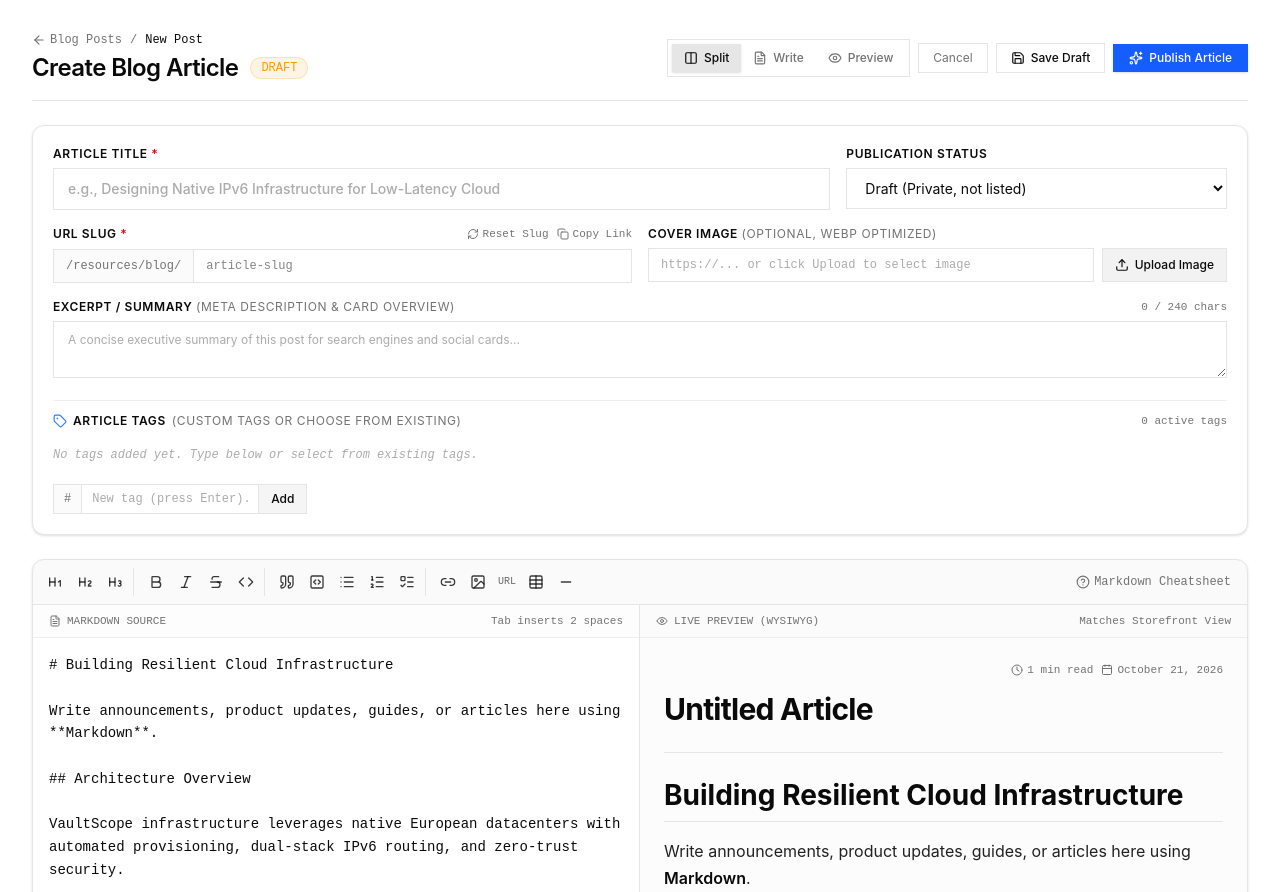
Test: BlogEdit - Markdown Editor with Live Preview › allows toggling view modes between Split, Write, and Preview
This screenshot has width=1280, height=892.
Expected: the text "MARKDOWN SOURCE" is shown, [67, 612, 166, 629]
Expected: the text "LIVE PREVIEW (WYSIWYG)" is shown, [674, 612, 819, 629]
// Click Write (edit only)
Click the button "Write". click: coordinates (778, 58)
box: [741, 44, 816, 72]
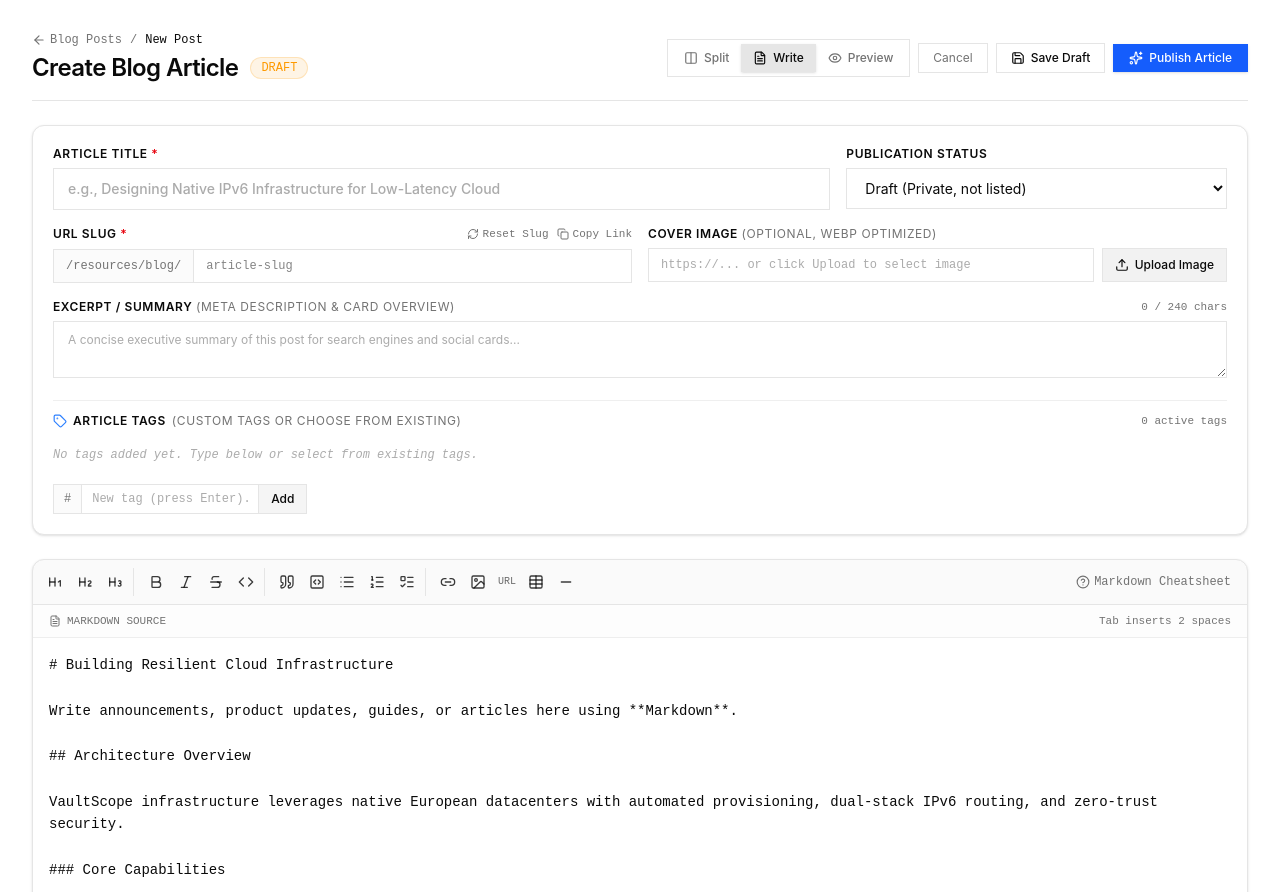
Expected: the text "MARKDOWN SOURCE" is shown, [67, 612, 166, 629]
Result: the text "LIVE PREVIEW (WYSIWYG)" is gone
// Click Preview (preview only)
Click the button "Preview". click: coordinates (861, 58)
box: [816, 44, 905, 72]
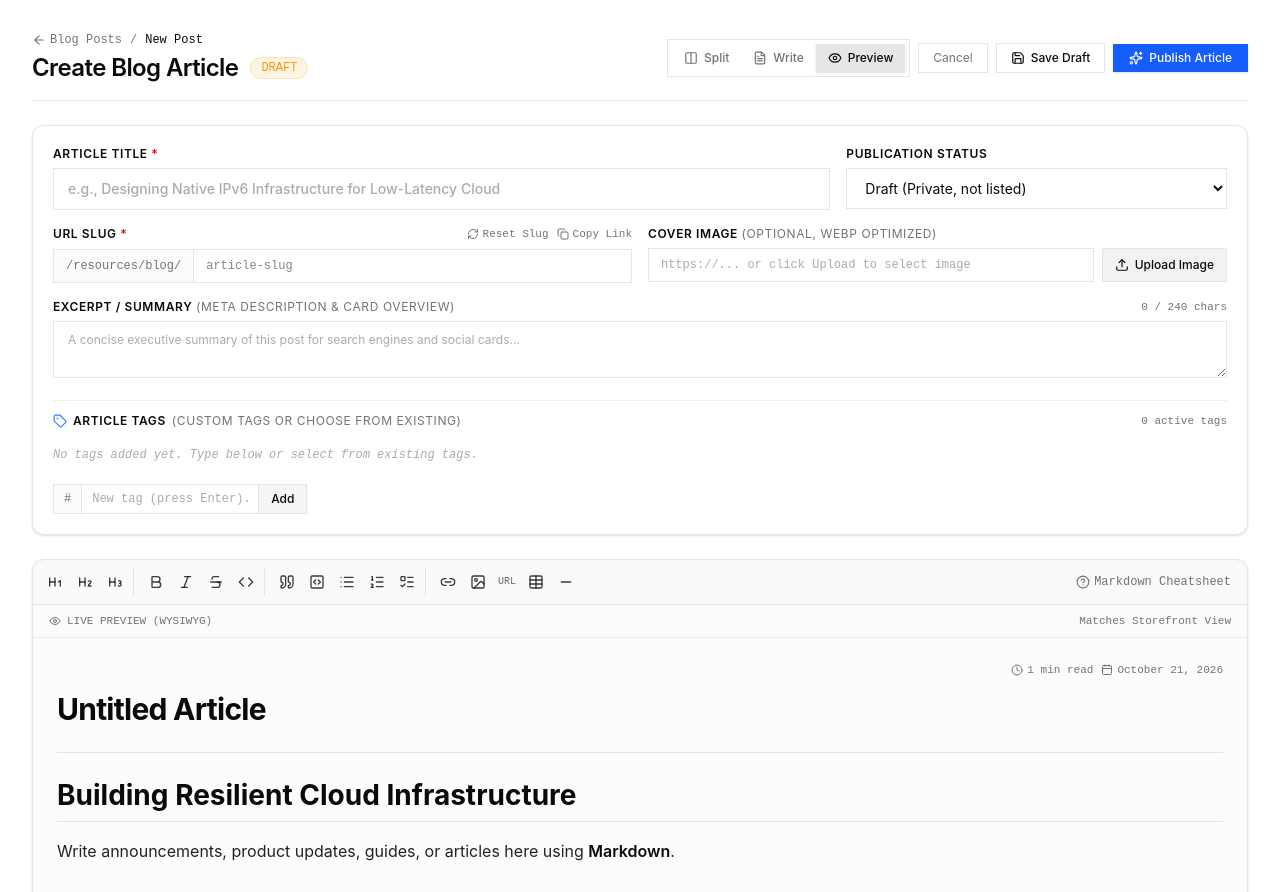
Result: the text "MARKDOWN SOURCE" is gone
Result: the text "LIVE PREVIEW (WYSIWYG)" is shown at [67, 612, 212, 629]
// Switch back to Split
Click the button "Split". click: coordinates (707, 58)
box: [672, 44, 741, 72]
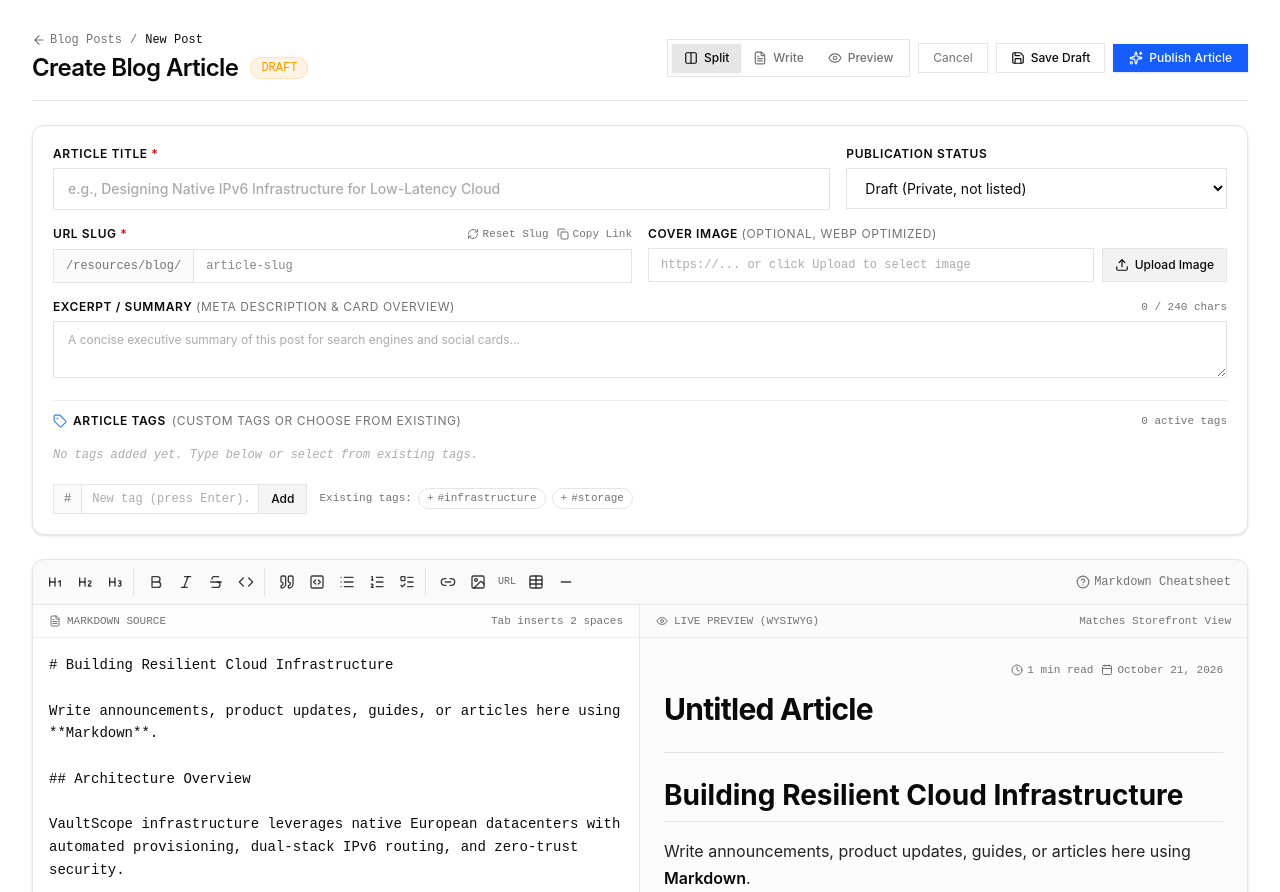
Result: the text "LIVE PREVIEW (WYSIWYG)" is shown at [674, 612, 819, 629]
Result: the text "MARKDOWN SOURCE" is shown at [67, 612, 166, 629]
